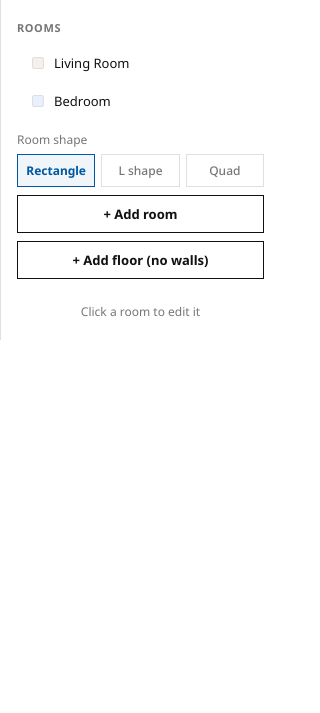
Test: room list and selection › clicking a room in the list selects it and opens its editor
The width and height of the screenshot is (320, 713).
What coordinates should you click on to do the following:
click the text "Living Room"
I would click on:
 (81, 63)
Its box is [32,54,130,72].
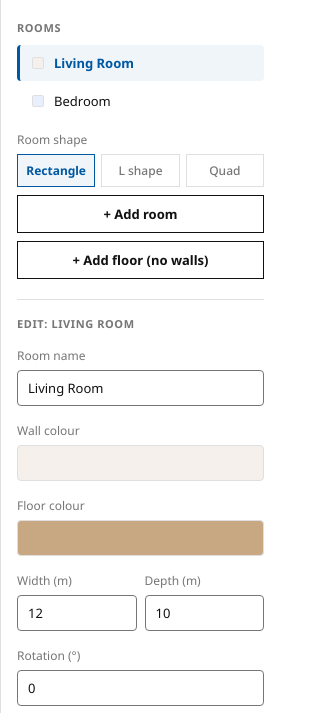
Now the text "Edit: Living Room" is shown, box [17,316,135,331]
